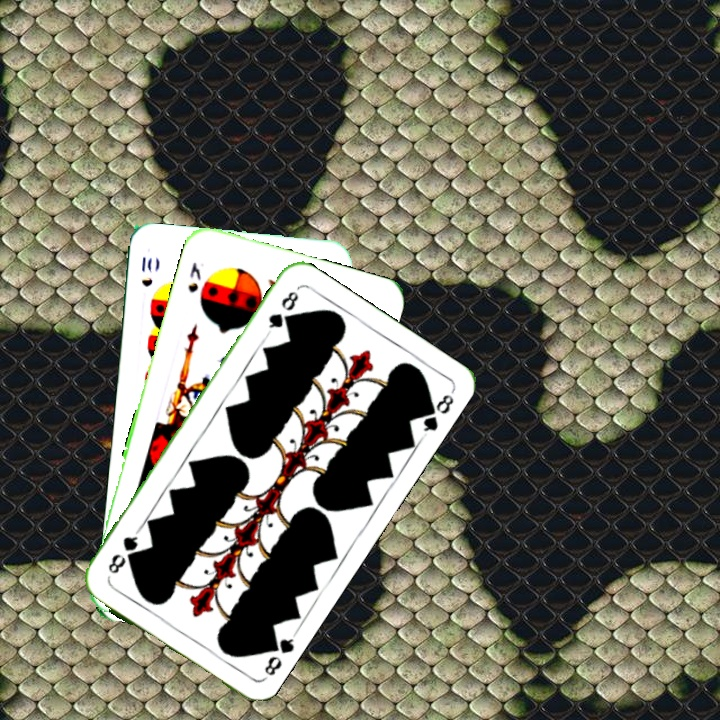G8: (259, 630, 298, 683), (263, 287, 301, 337)
S10: (137, 253, 155, 290)
SK: (183, 258, 204, 296)
